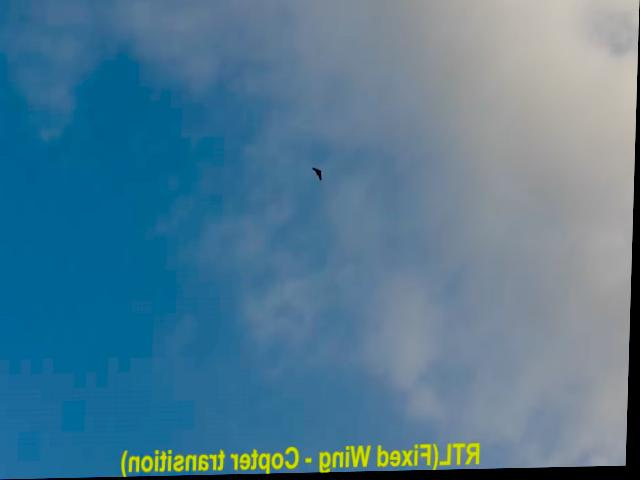plane: (314, 168, 325, 177)
